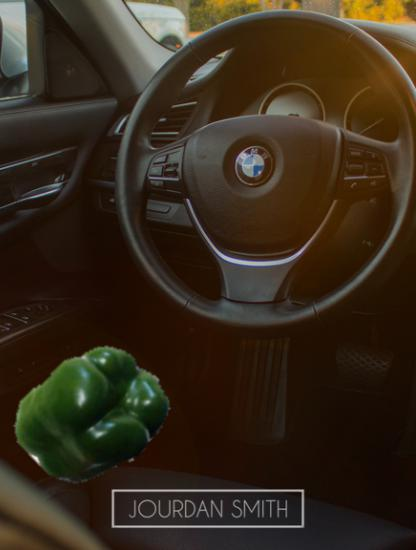Pepper: (18, 341, 168, 491)
